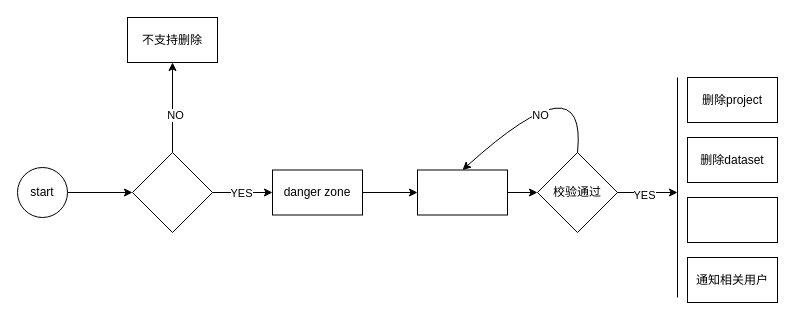
The diagram is 795 pixels wide and 320 high, and some of its shapes have lost their labels. The box of each missing label's shape, as (x1, y1, x2, y2) in pixels:
is created: (132, 152, 212, 232)
删除user 关联关系: (686, 196, 778, 242)
输入验证信息: (416, 169, 508, 215)
